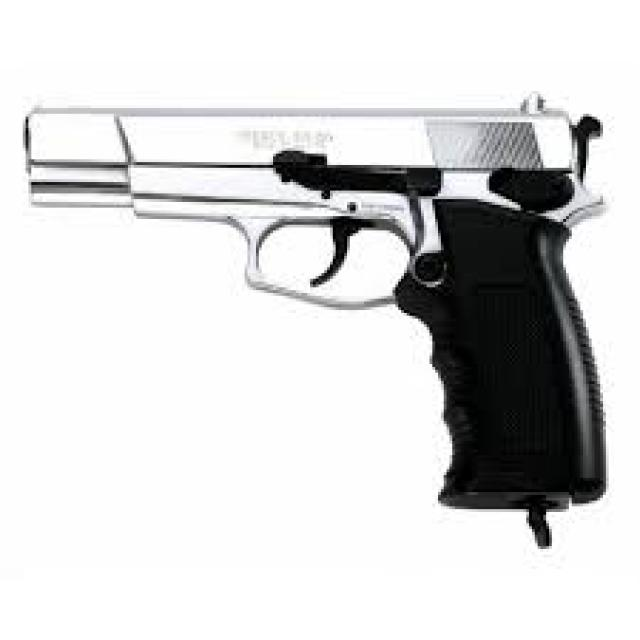pistol: (16, 82, 620, 560)
